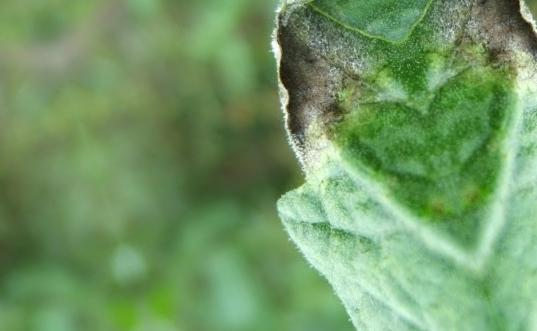Tomato leaf late blight: (121, 0, 512, 331)
